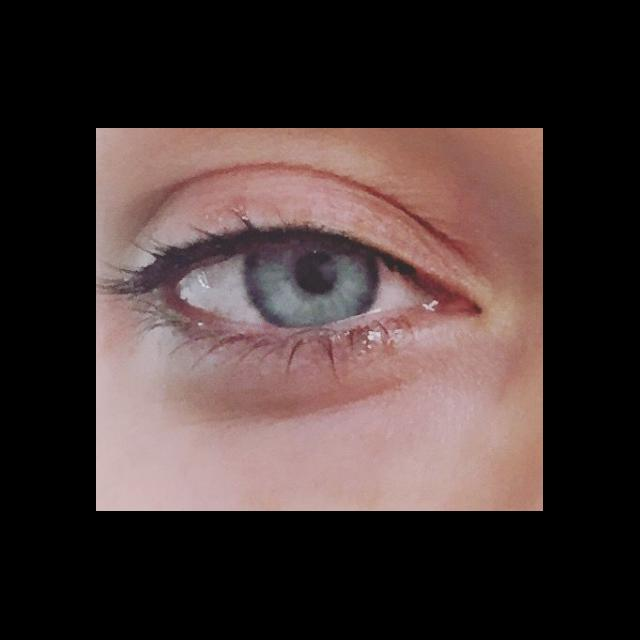eye: (174, 244, 434, 327)
iris: (246, 247, 378, 322)
